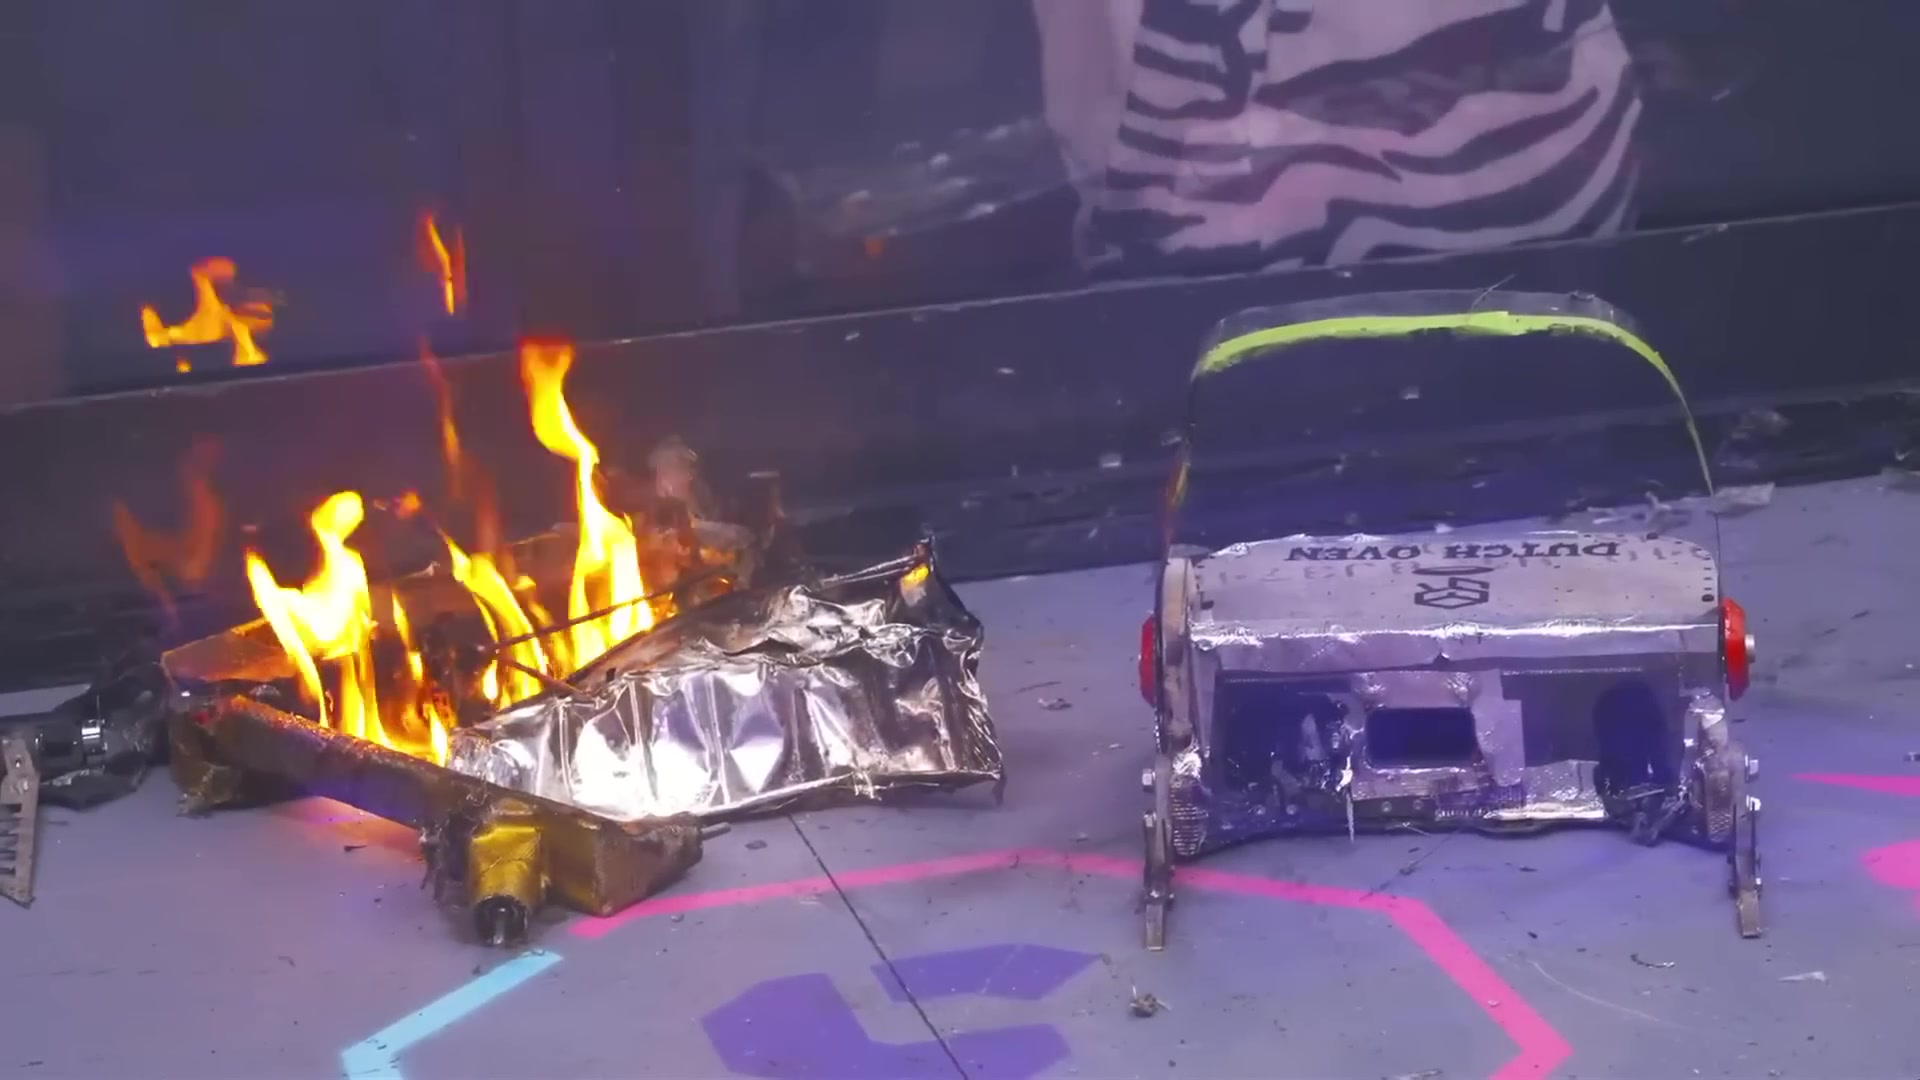combatbot: (1134, 289, 1775, 947), (162, 502, 762, 947)
debris: (444, 534, 1017, 818)
